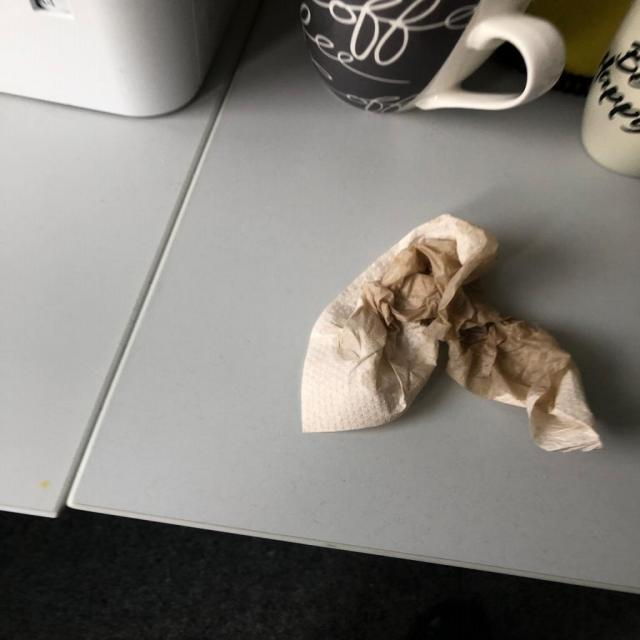kitchen paper: (298, 216, 602, 454)
